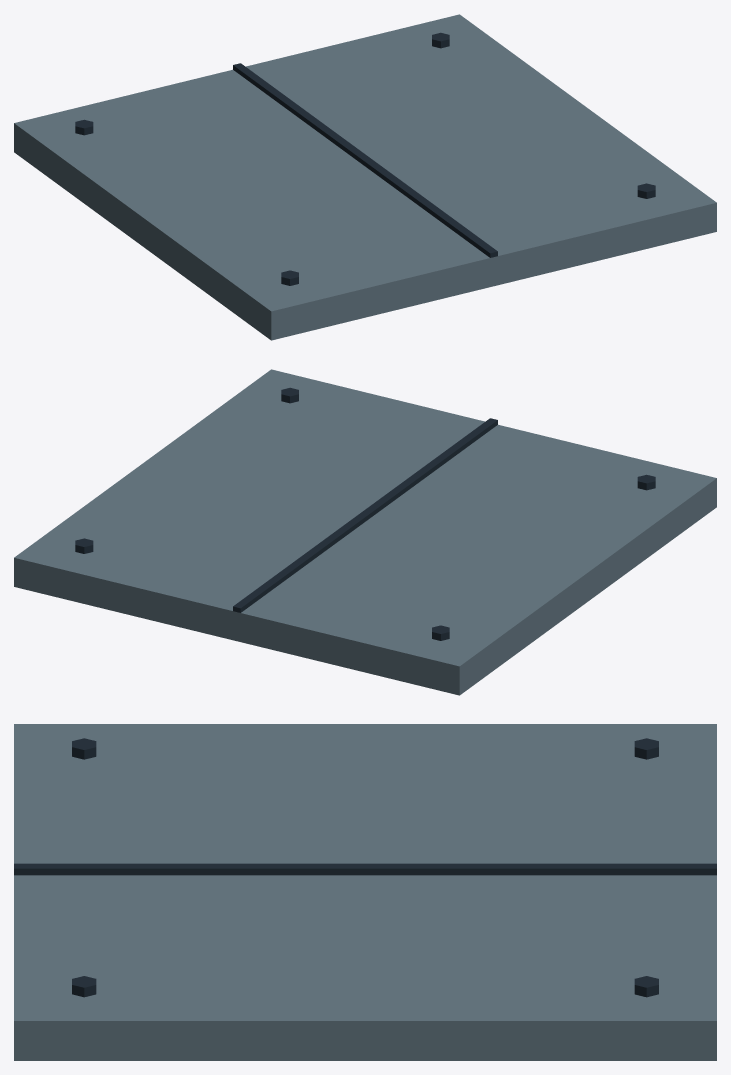
File: terrain-metal-flat.lod0.glb
3 renders of one model, top to bottom at view 1: azimuth 30°, elevation 25°; view 2: azimuth 150°, elevation 25°; view 3: azimuth 270°, elevation 25°, orthographic. The views are drawn at different scales.
Visible parts, largest first — view 1: terrain-metal-flat__body; view 2: terrain-metal-flat__body; view 3: terrain-metal-flat__body.
Boxes of the visible parts, box(x1,y1,x2,y2) form: terrain-metal-flat__body: box(14, 14, 716, 340); terrain-metal-flat__body: box(14, 369, 716, 695); terrain-metal-flat__body: box(14, 724, 716, 1060).
Bounding box in the file's own units: 2 × 0.155 × 2.
